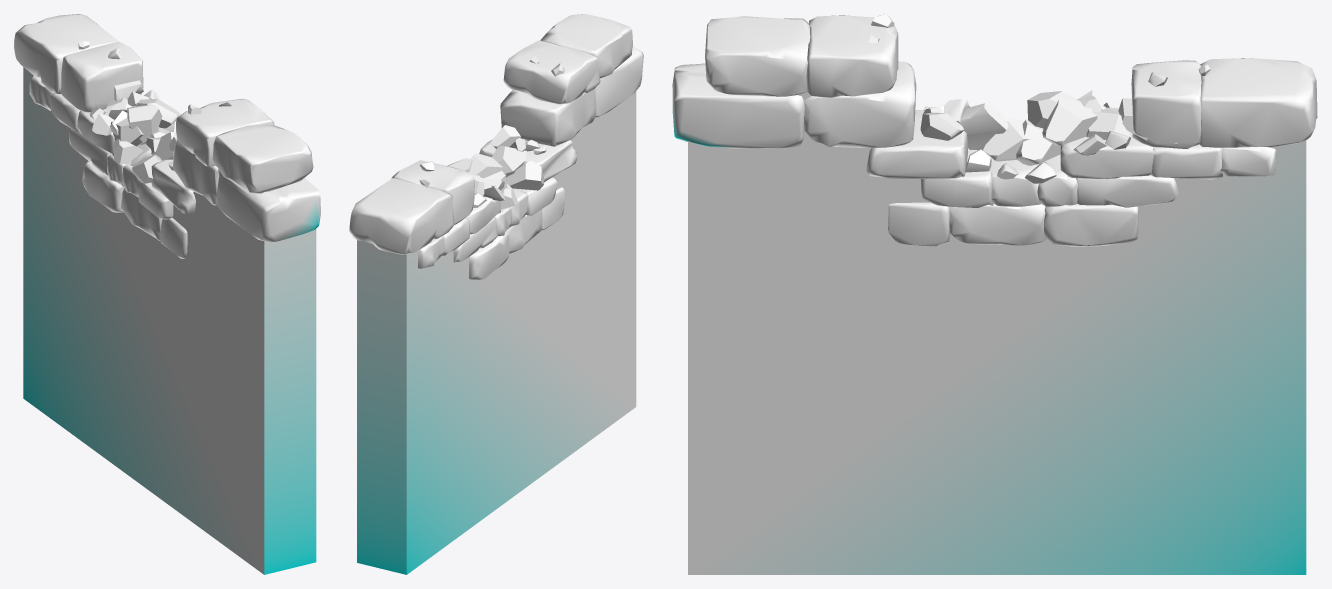
Rendered from SM_Wall_400_Ruin_Top_A.glb.
3 views of the same model, side by side, from view 1: azimuth 30°, elevation 25°; view 2: azimuth 150°, elevation 25°; view 3: azimuth 270°, elevation 25° (orthographic). The views are drawn at different scales.
Parts seen in each view (by area): view 1: SM_Wall_400_Ruin_Top_A_LOD0; view 2: SM_Wall_400_Ruin_Top_A_LOD0; view 3: SM_Wall_400_Ruin_Top_A_LOD0.
Boxes of the visible parts, <box> form: SM_Wall_400_Ruin_Top_A_LOD0: <box>14,14,320,574</box>; SM_Wall_400_Ruin_Top_A_LOD0: <box>349,14,643,574</box>; SM_Wall_400_Ruin_Top_A_LOD0: <box>672,14,1317,574</box>.
Bounding box in the file's own units: 0.7909 × 3.78 × 4.17.
